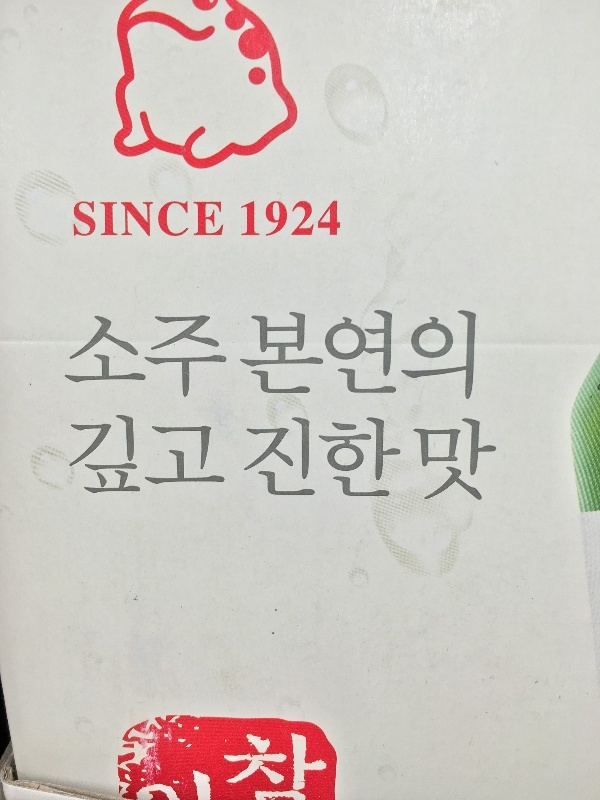text: (481, 416, 497, 505), (145, 706, 160, 800), (161, 706, 176, 800), (177, 706, 192, 800), (193, 706, 208, 800), (209, 706, 224, 800), (225, 706, 240, 800), (241, 706, 256, 800), (257, 706, 272, 800), (273, 706, 288, 800), (289, 706, 304, 800), (305, 706, 320, 800), (241, 311, 256, 400), (257, 311, 272, 400), (273, 311, 288, 400), (289, 311, 304, 400), (305, 311, 320, 400), (321, 311, 336, 400), (337, 311, 352, 400), (353, 311, 368, 400), (369, 311, 384, 400), (385, 311, 400, 400), (401, 311, 416, 400), (417, 311, 432, 400), (433, 311, 448, 400), (449, 311, 464, 400), (257, 416, 272, 505), (273, 416, 288, 505), (289, 416, 304, 505), (305, 416, 320, 505), (321, 416, 336, 505), (337, 416, 352, 505), (353, 416, 368, 505), (369, 416, 384, 505), (385, 416, 400, 505), (401, 416, 416, 505), (417, 416, 432, 505), (433, 416, 448, 505), (449, 416, 464, 505), (465, 416, 480, 505), (81, 411, 96, 497), (97, 411, 112, 497), (113, 411, 128, 497), (129, 411, 144, 497), (145, 411, 160, 497), (161, 411, 176, 497), (177, 411, 192, 497), (193, 411, 208, 497), (209, 411, 224, 497), (65, 317, 80, 399), (81, 317, 96, 399), (97, 317, 112, 399), (113, 317, 128, 399), (129, 317, 144, 399), (145, 317, 160, 399), (161, 317, 176, 399), (177, 317, 192, 399), (193, 317, 208, 399), (209, 317, 224, 399), (321, 706, 334, 800), (465, 311, 478, 400), (243, 416, 256, 505), (67, 411, 80, 497), (134, 706, 144, 800), (81, 200, 96, 239), (97, 200, 112, 239), (113, 200, 128, 239), (129, 200, 144, 239), (145, 200, 160, 239), (161, 200, 176, 239), (177, 200, 192, 239), (193, 200, 208, 239), (209, 200, 224, 239), (241, 202, 256, 239), (257, 202, 272, 239), (273, 202, 288, 239), (289, 202, 304, 239), (305, 202, 320, 239), (321, 202, 336, 239), (225, 317, 229, 399), (73, 200, 80, 239), (337, 202, 341, 239), (239, 311, 240, 400), (225, 411, 226, 497), (239, 202, 240, 239)
